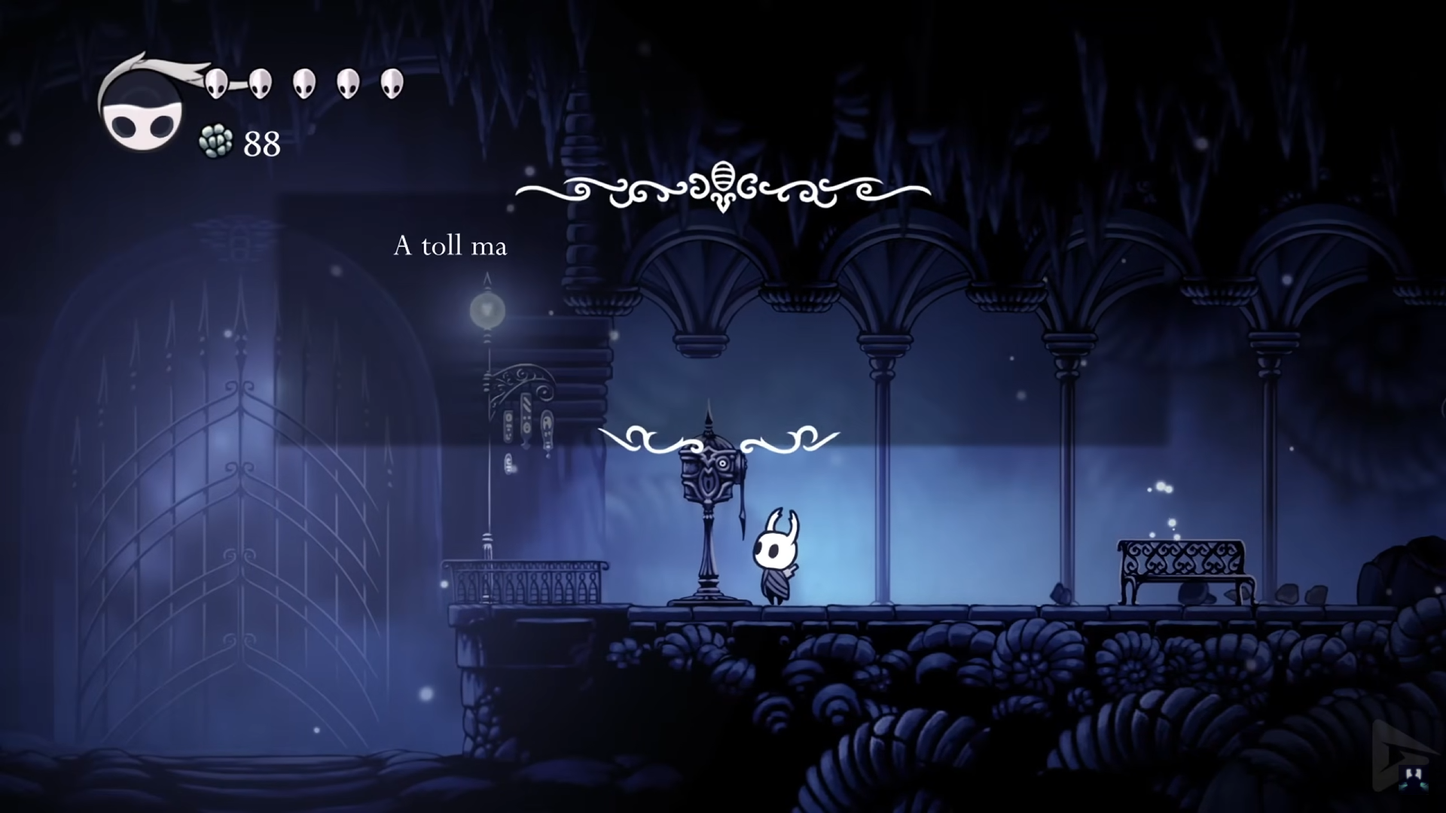HK: (747, 507, 804, 607)
